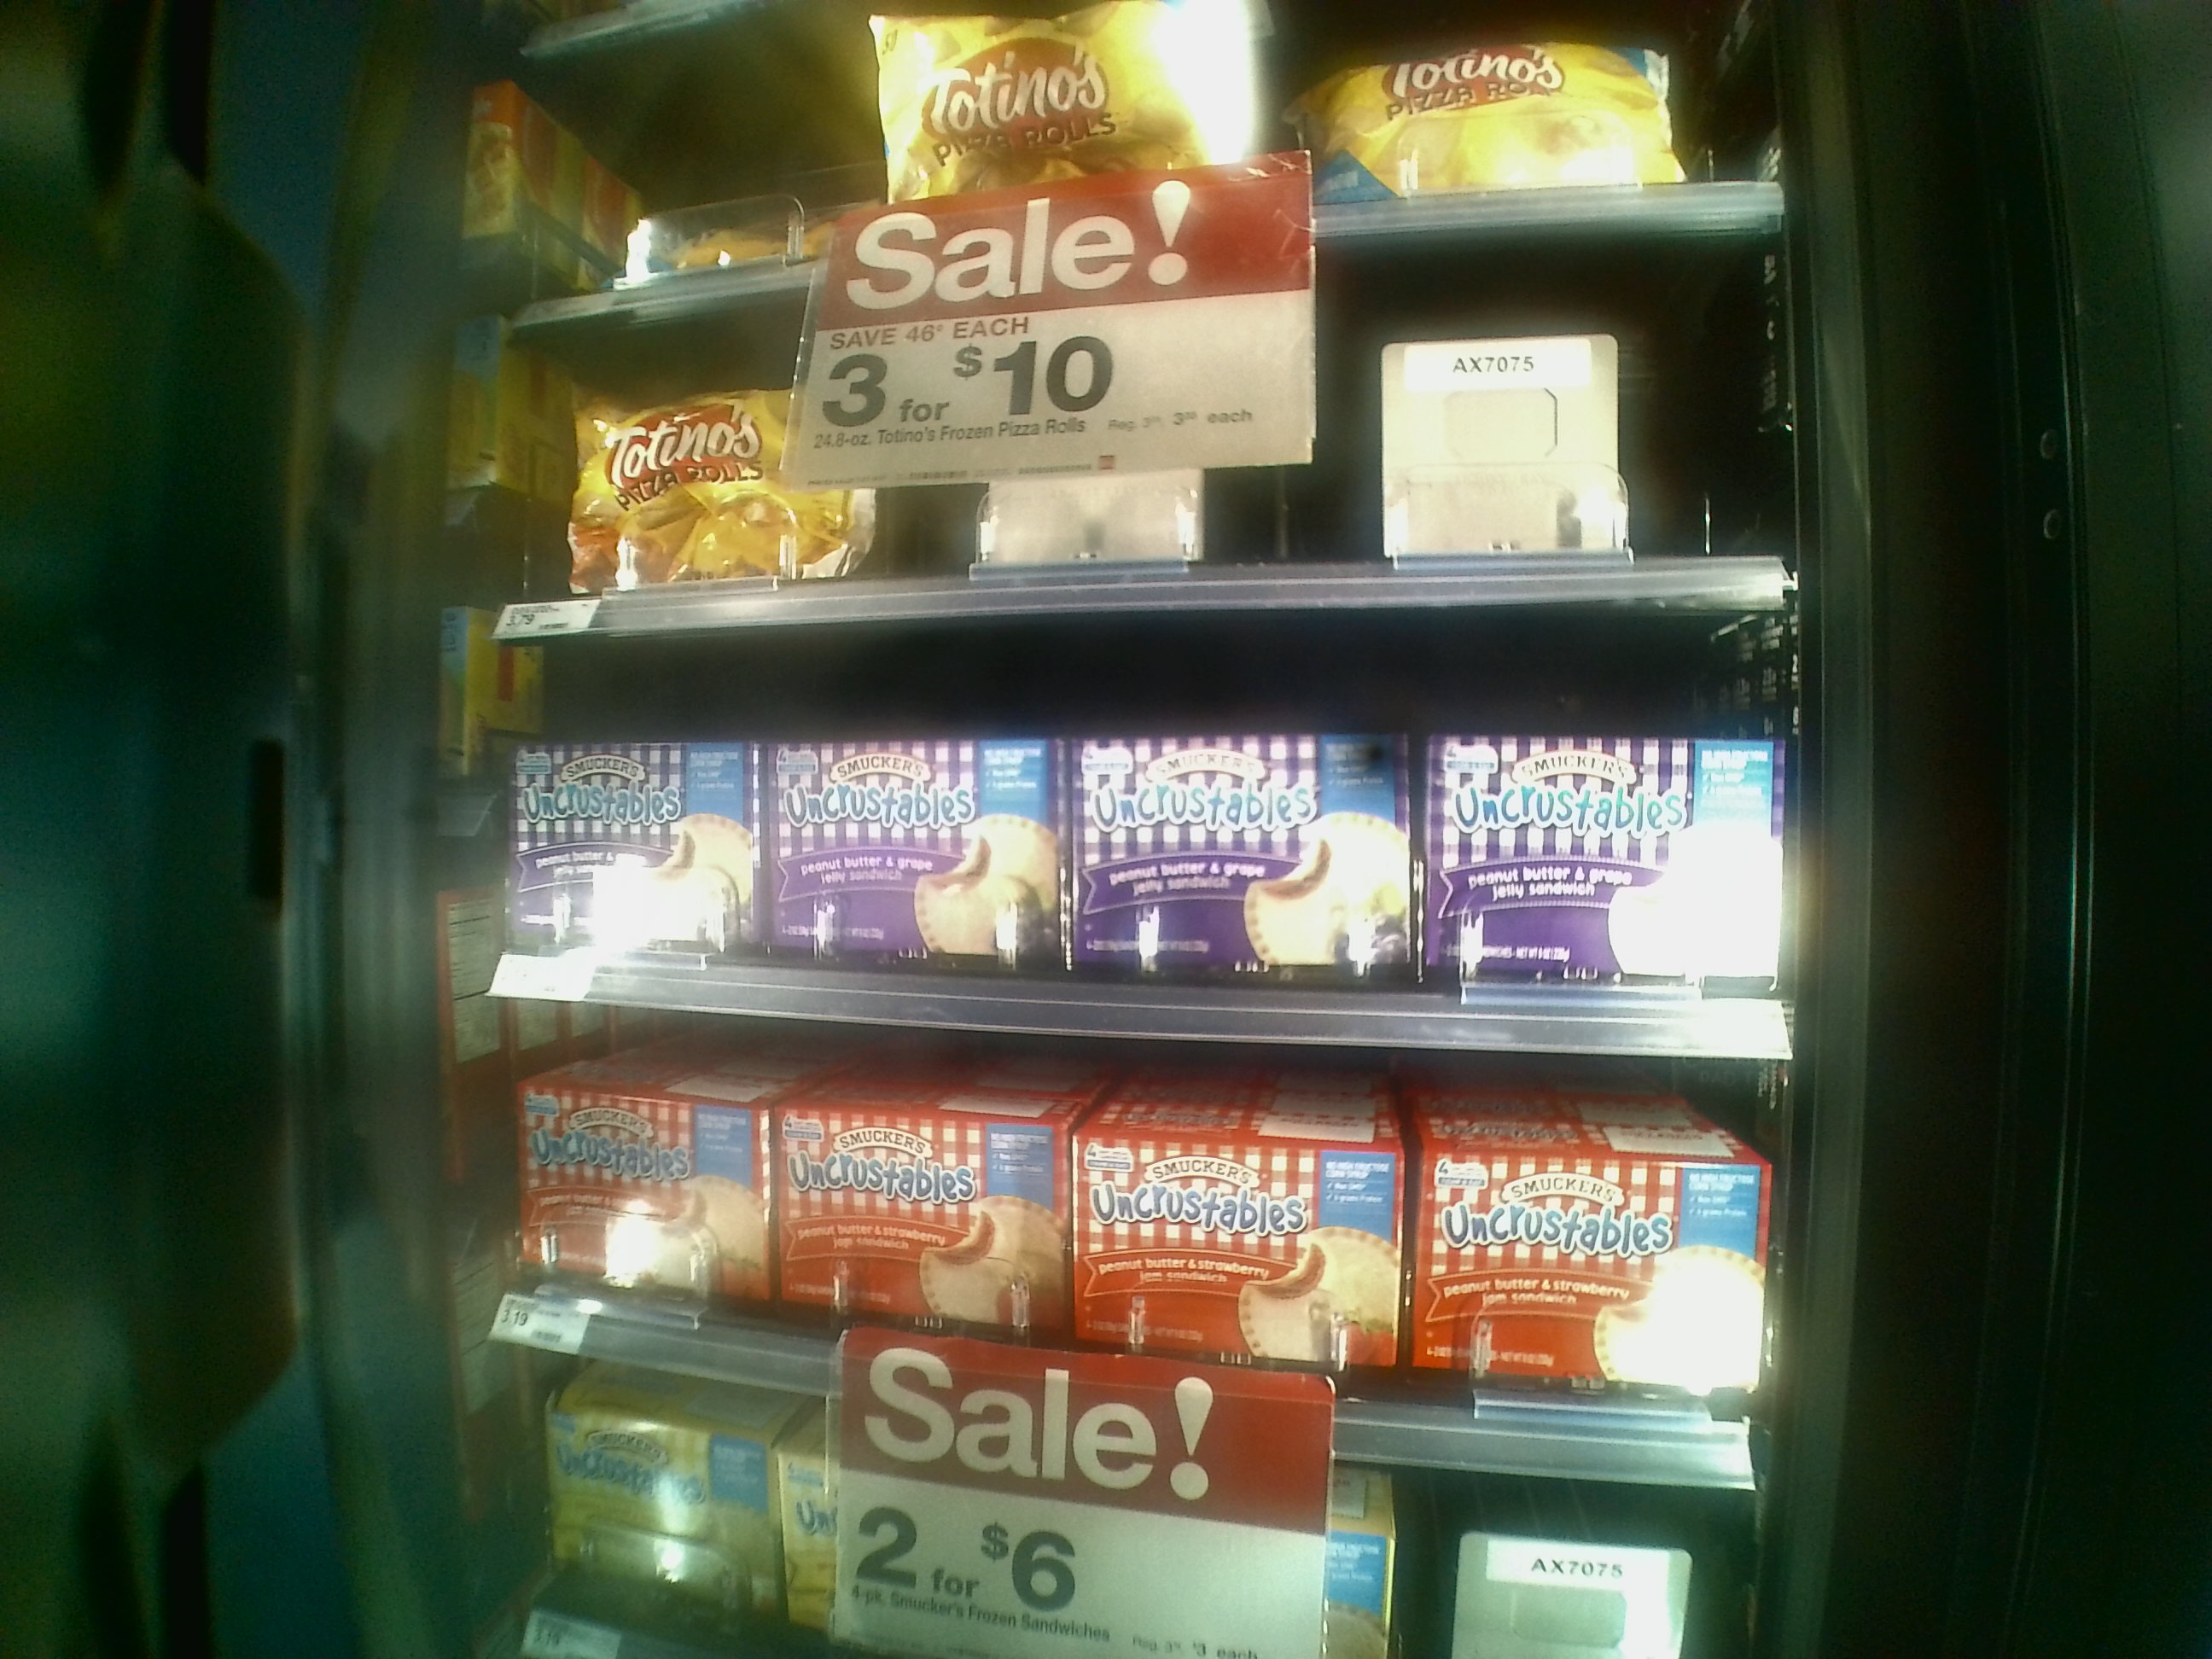shelf: (477, 1000, 1764, 1485), (482, 599, 1804, 1060), (484, 321, 1804, 594)
